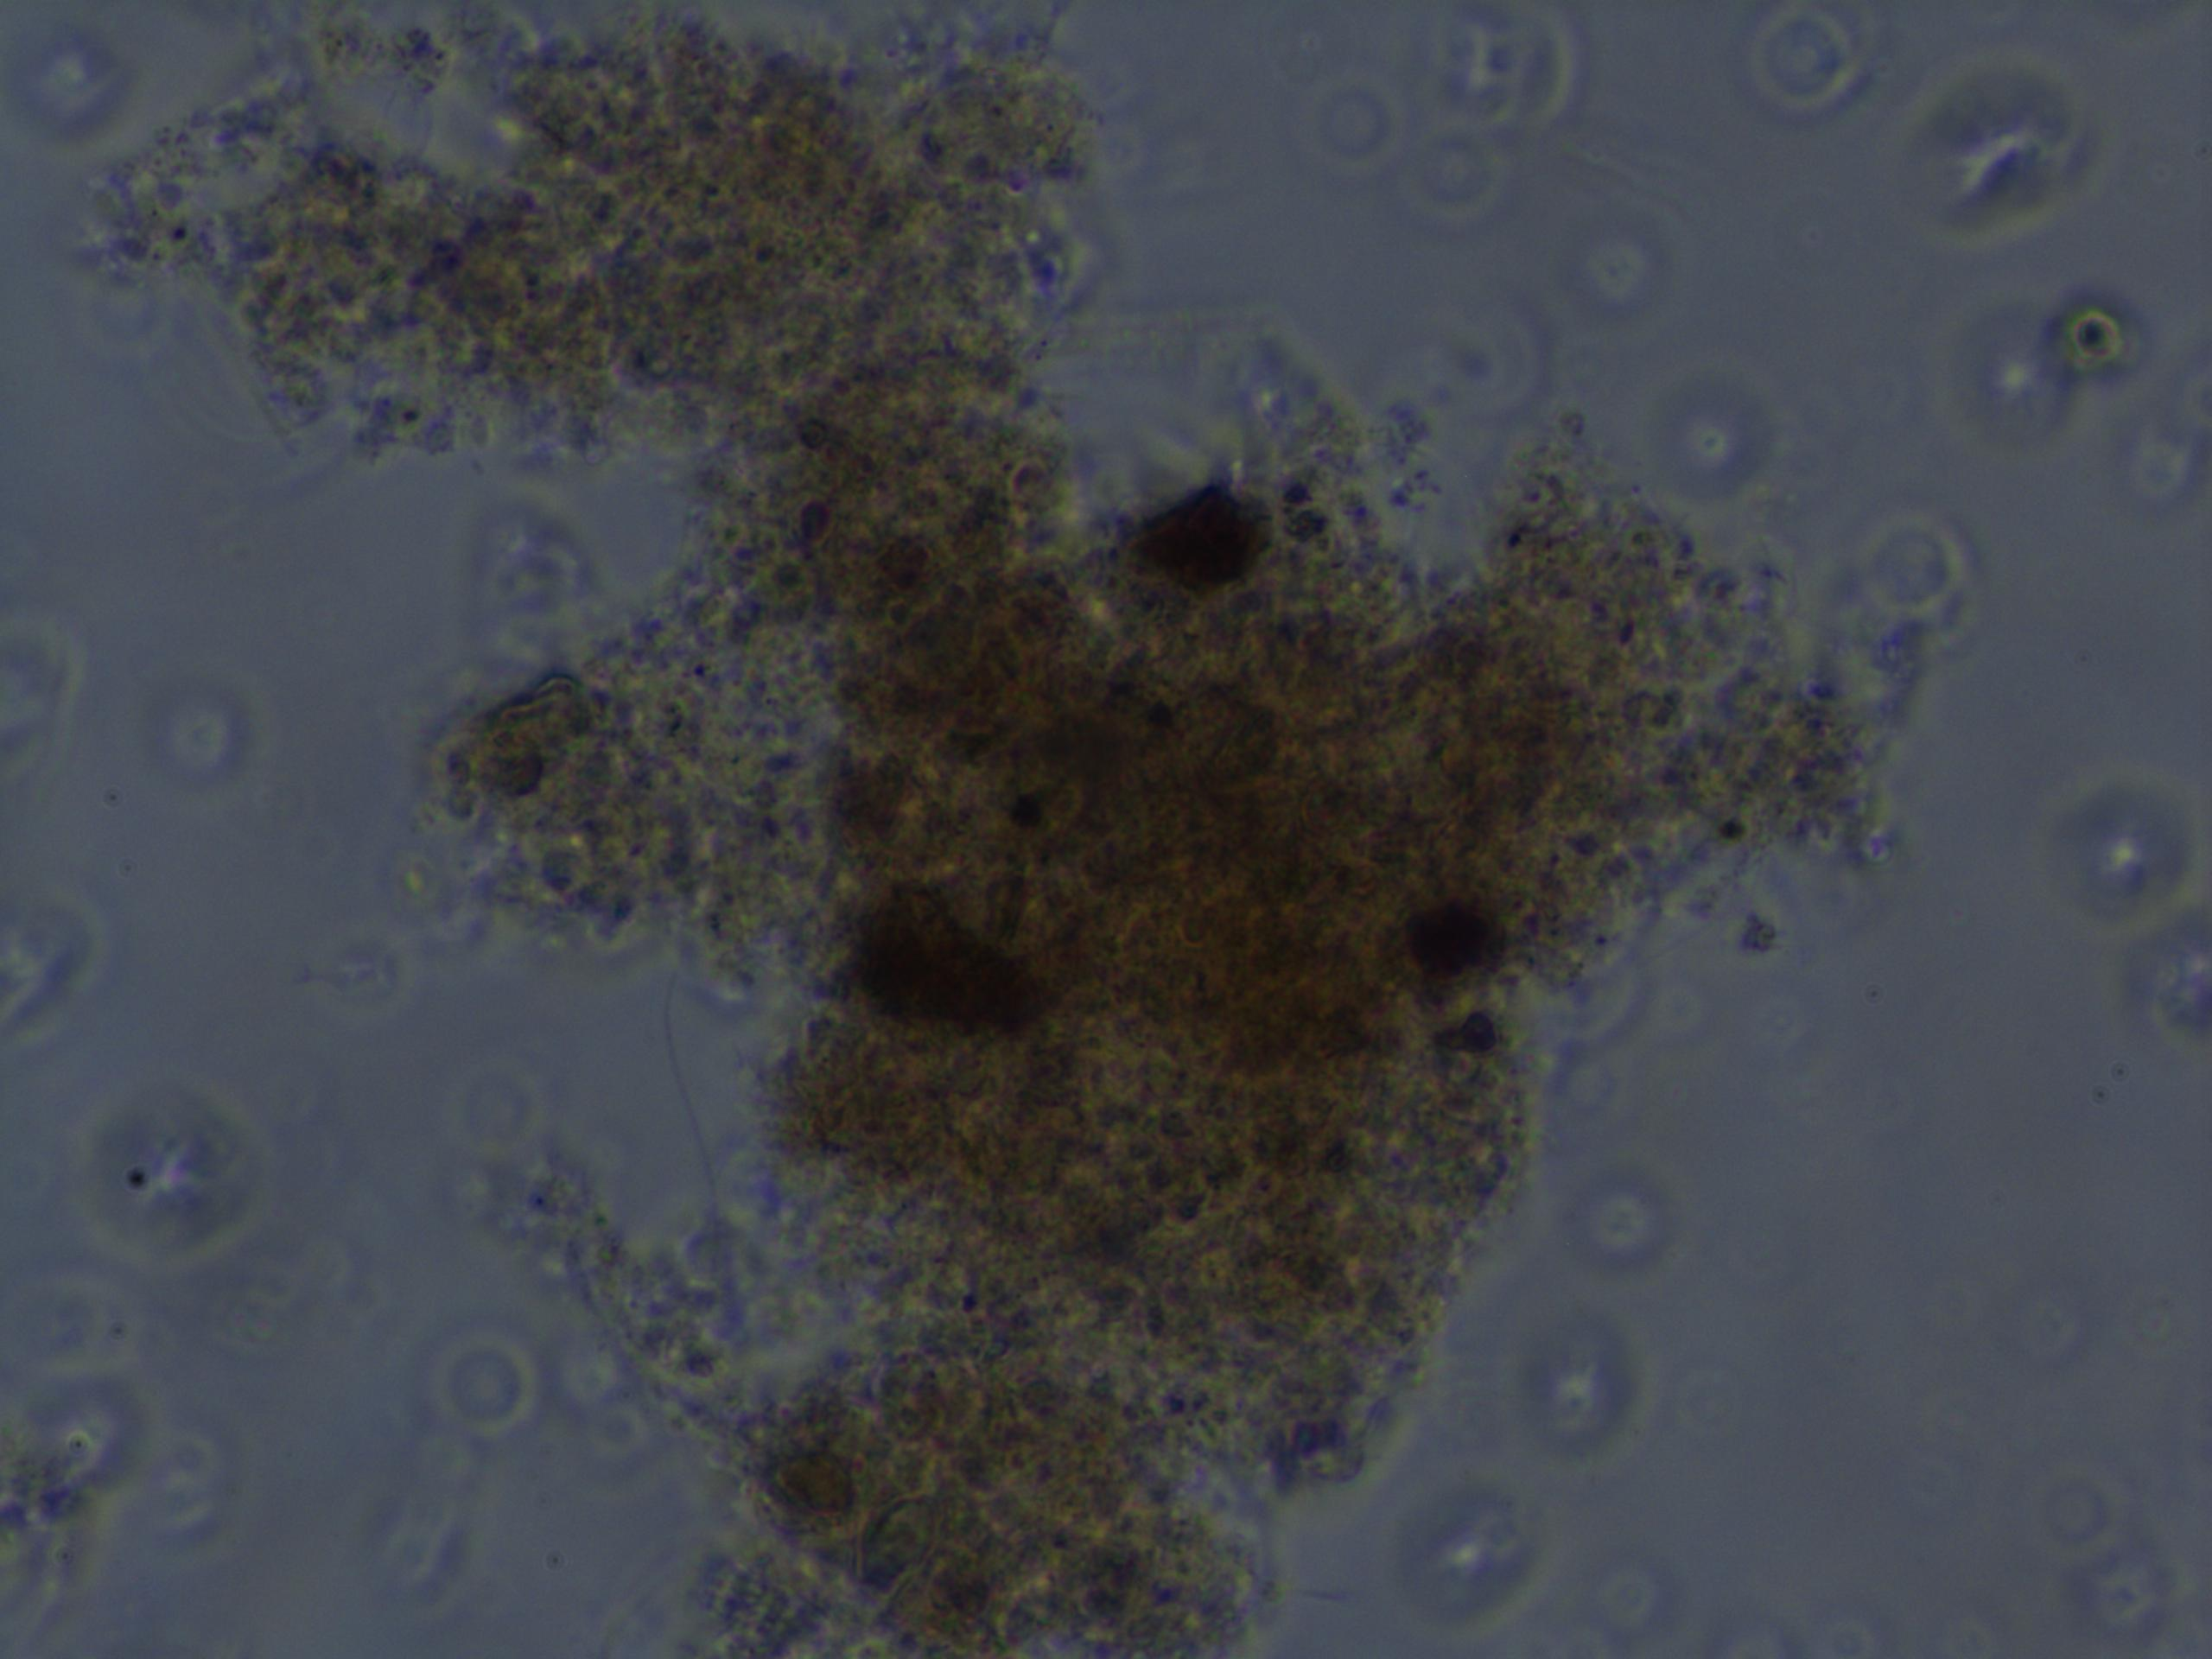open_floc: (188, 0, 1892, 1659)
